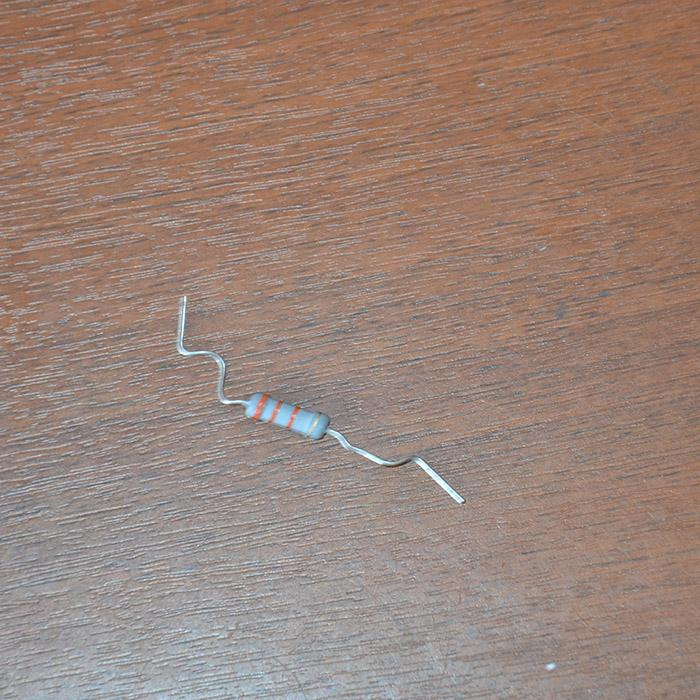resistor: (243, 391, 329, 439)
